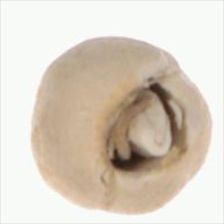L3: (99, 72, 189, 177)
L4: (30, 36, 212, 215)
